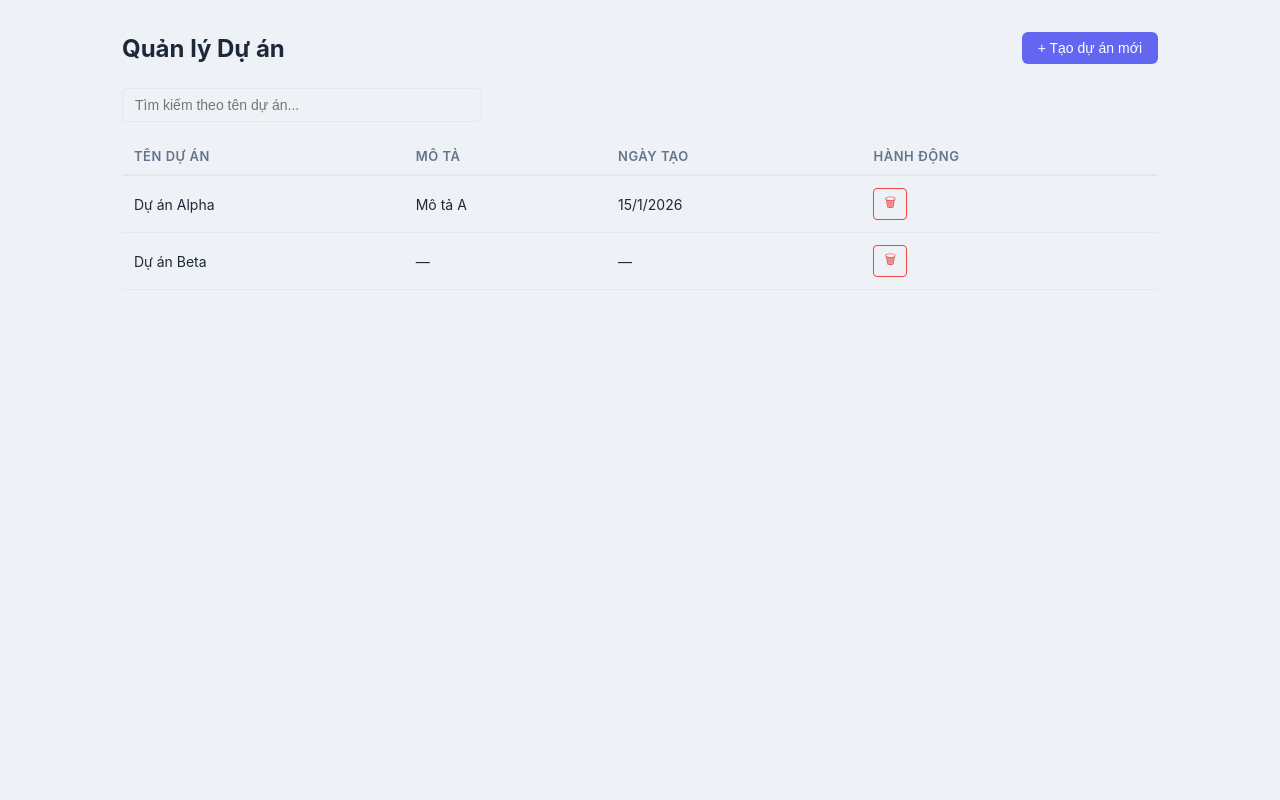
Test case: ProjectsPage › click icon 🗑 mở DeleteProjectModal với đúng tên dự án
Check: the text "Dự án Alpha" is shown, box [122,175,404,232]
Click the button titled "Xóa" in the row of "Dự án Alpha": click(890, 204) [874,188,907,220]
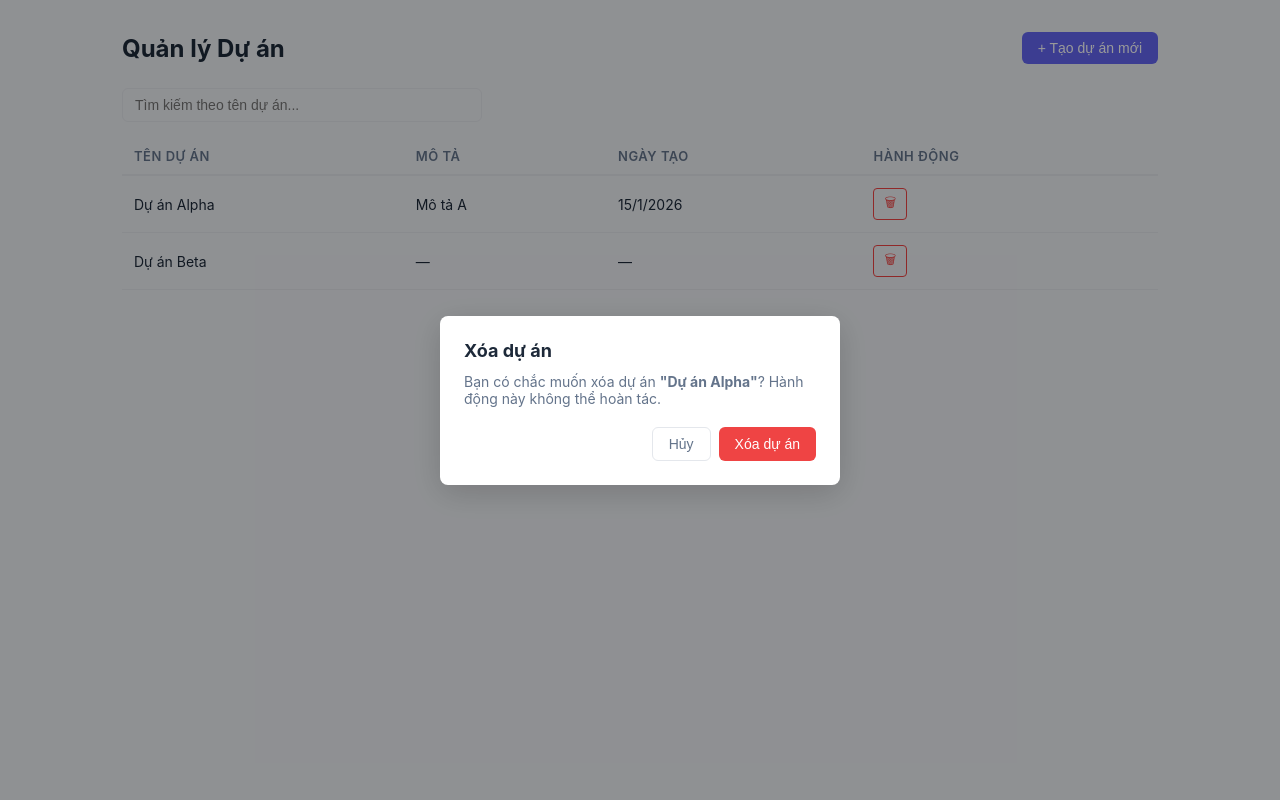
Check: the text "Bạn có chắc muốn xóa" is shown, box [464,372,660,390]
